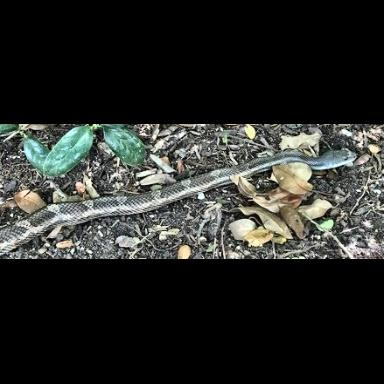snake: (0, 149, 358, 256)
